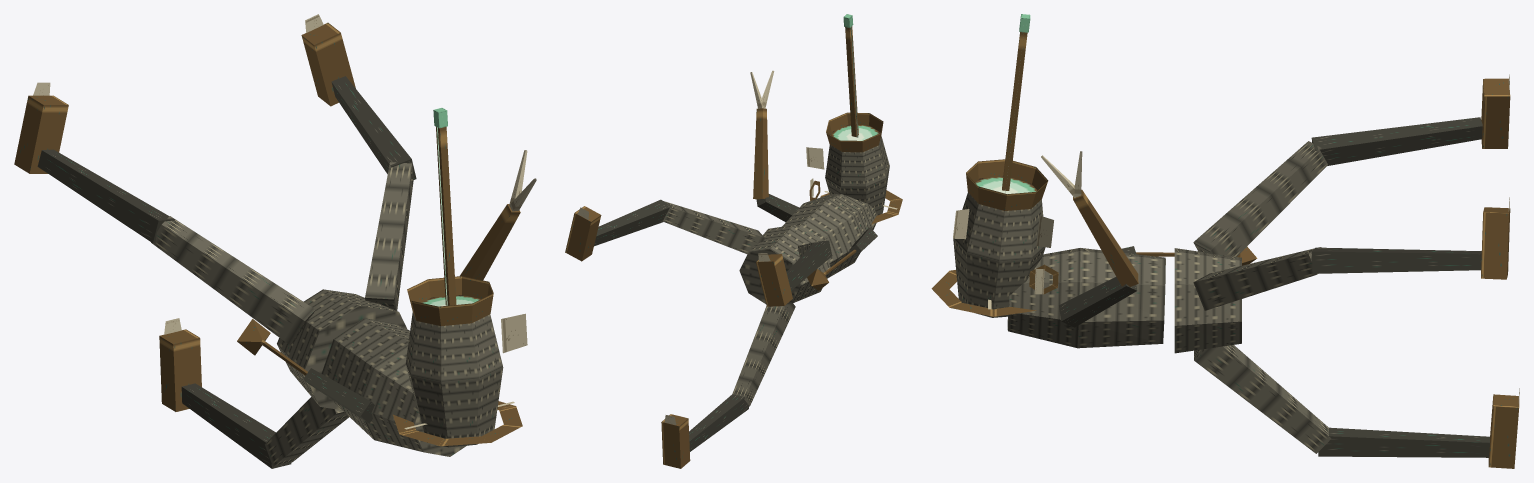
File: surveyor_neutral.obj
3 views of the same model, side by side, from view 1: azimuth 30°, elevation 25°; view 2: azimuth 150°, elevation 25°; view 3: azimuth 270°, elevation 25° (orthographic). The views are drawn at different scales.
Parts seen in each view (by area): view 1: head, torso, leg_fl_thigh, root, leg_fr_thigh, leg_fl_shin, leg_fl_foot, leg_rear_shin, leg_rear_foot, leg_rear_thigh, leg_fr_foot, leg_fr_shin (+4 smaller); view 2: head, torso, root, leg_rear_thigh, leg_fr_thigh, caliper, leg_fr_shin, leg_fl_foot, leg_rear_foot, leg_rear_shin, leg_fr_foot, leg_fl_shin (+3 smaller); view 3: head, torso, leg_fl_thigh, root, leg_rear_thigh, leg_fl_shin, leg_rear_shin, caliper, leg_fr_shin, leg_fr_thigh, leg_rear_foot, leg_fr_foot (+3 smaller).
Boxes of the visible parts, box(x1,y1,x2,y2) form: head: box(405, 276, 527, 447); torso: box(321, 318, 466, 456); leg_fl_thigh: box(151, 216, 315, 345); root: box(277, 289, 406, 410); leg_fr_thigh: box(365, 162, 413, 310); leg_fl_shin: box(37, 149, 174, 243); leg_fl_foot: box(14, 82, 68, 173); leg_rear_shin: box(181, 383, 291, 468); leg_rear_foot: box(159, 318, 201, 411); leg_rear_thigh: box(265, 397, 348, 466); leg_fr_foot: box(301, 14, 355, 106); leg_fr_shin: box(331, 76, 416, 179); head: box(806, 112, 889, 215); torso: box(782, 178, 876, 278); root: box(739, 225, 830, 306); leg_rear_thigh: box(732, 303, 795, 406); leg_fr_thigh: box(663, 201, 765, 254); caliper: box(750, 70, 799, 222); leg_fr_shin: box(594, 199, 671, 246); leg_fl_foot: box(756, 253, 792, 306); leg_rear_foot: box(661, 414, 690, 468); leg_rear_shin: box(689, 394, 748, 451); leg_fr_foot: box(565, 206, 601, 261); leg_fl_shin: box(786, 240, 832, 290); head: box(953, 159, 1053, 317); torso: box(1007, 248, 1165, 348); leg_fl_thigh: box(1193, 141, 1327, 256); root: box(1174, 248, 1241, 353); leg_rear_thigh: box(1194, 345, 1331, 453); leg_fl_shin: box(1311, 117, 1482, 165); leg_rear_shin: box(1318, 427, 1489, 457); caliper: box(1041, 151, 1138, 327); leg_fr_shin: box(1311, 247, 1481, 273); leg_fr_thigh: box(1193, 247, 1321, 310); leg_rear_foot: box(1488, 388, 1519, 468); leg_fr_foot: box(1481, 197, 1510, 279).
Size of the model in its own units: 0.5982 by 0.8386 by 1.
Materials: 1 (1 with a texture image).
